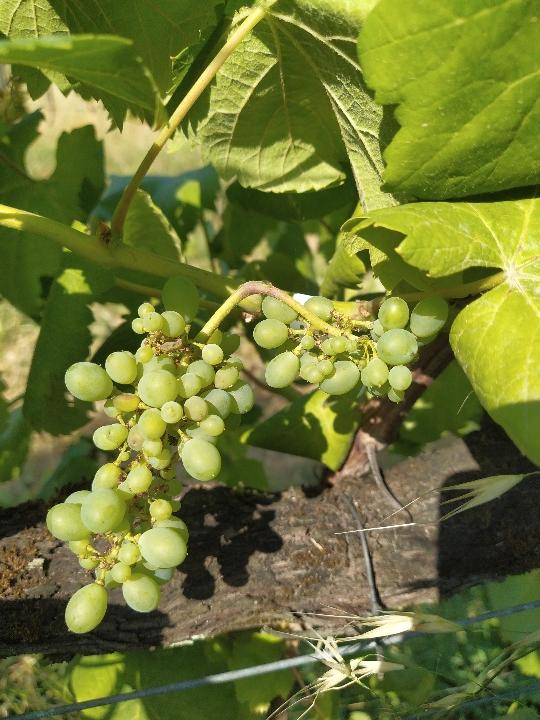grape: (35, 271, 454, 638)
